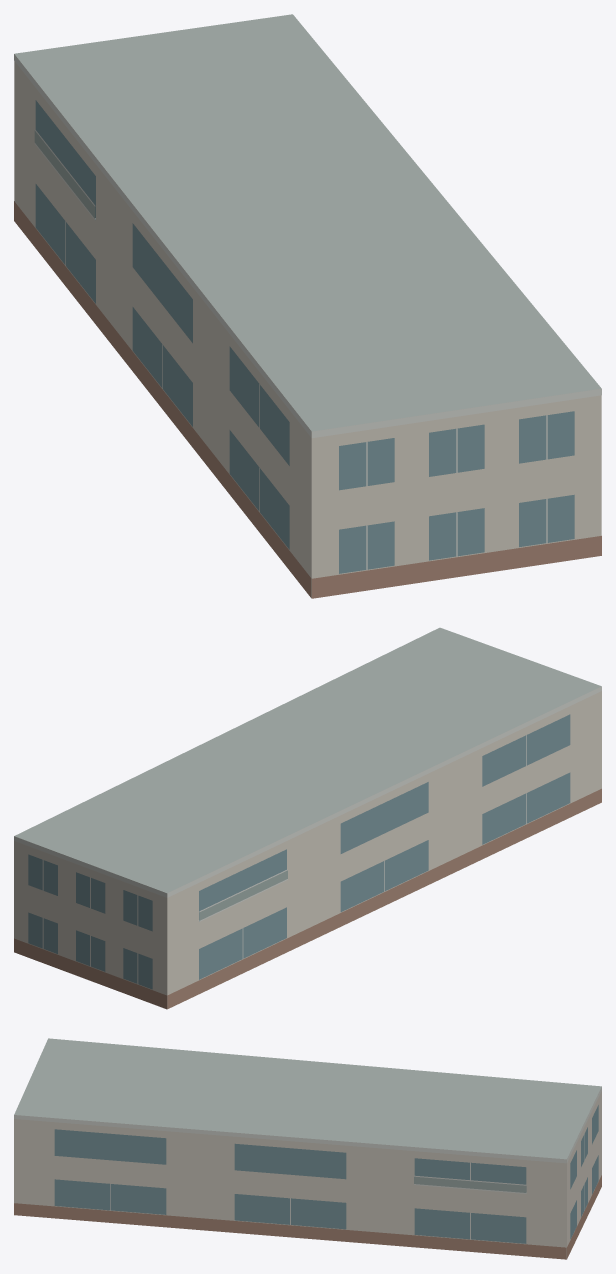
Rendered from survey-upis-32904186.glb.
3 views of the same model, one above another, from view 1: azimuth 30°, elevation 25°; view 2: azimuth 150°, elevation 25°; view 3: azimuth 270°, elevation 25° (orthographic). The views are drawn at different scales.
Parts seen in each view (by area): view 1: survey-upis-32904186.tmp; view 2: survey-upis-32904186.tmp; view 3: survey-upis-32904186.tmp.
Part boxes in pixels (x1=…): survey-upis-32904186.tmp: x1=14, y1=14, x2=601, y2=598; survey-upis-32904186.tmp: x1=14, y1=627, x2=601, y2=1009; survey-upis-32904186.tmp: x1=14, y1=1038, x2=601, y2=1259.
Size of the model in its own units: 15.8 by 6.1 by 32.43.
